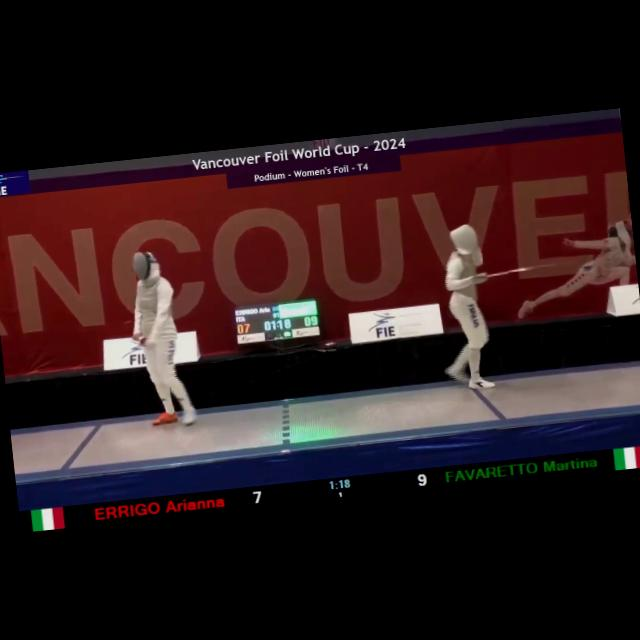blade: (476, 258, 566, 283)
